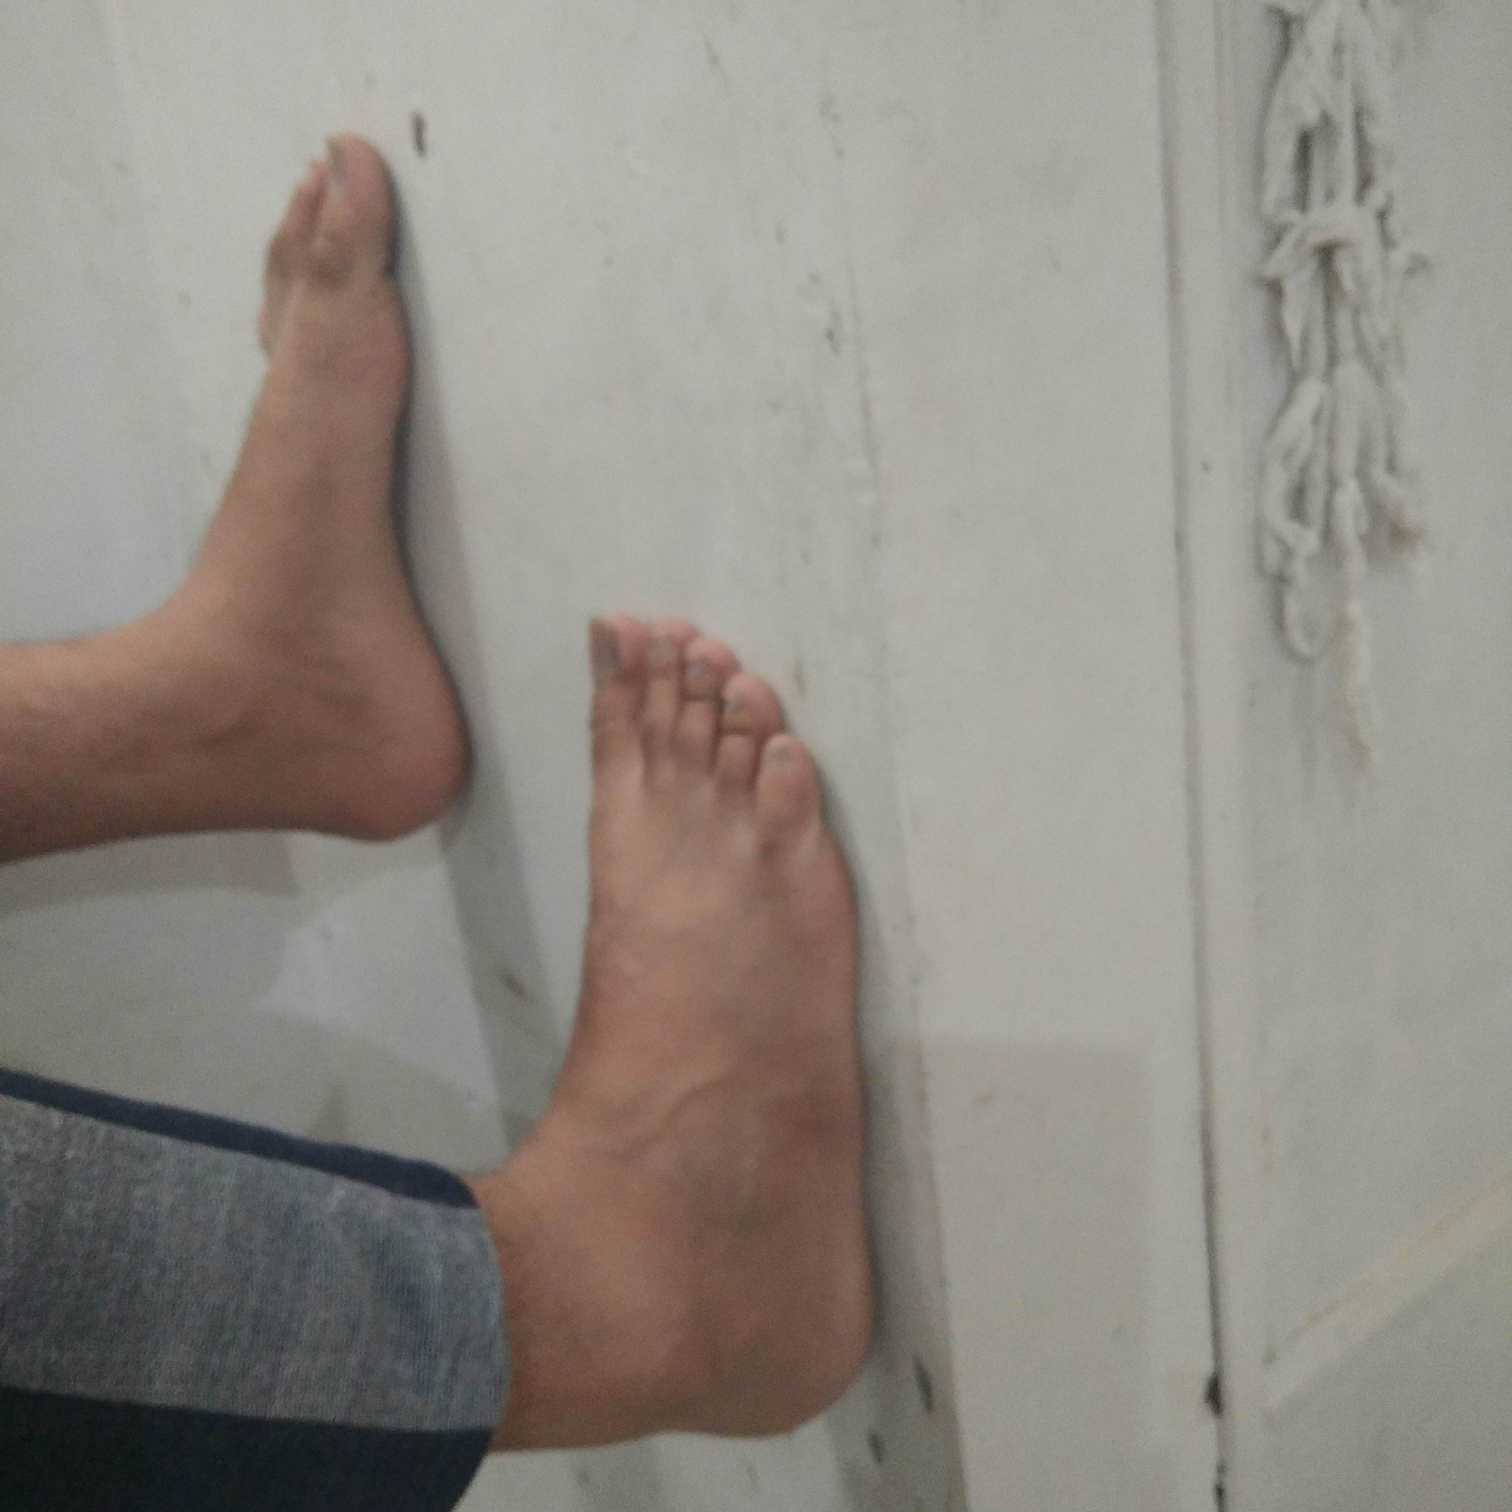foot: (576, 606, 888, 1447), (187, 132, 478, 847)
